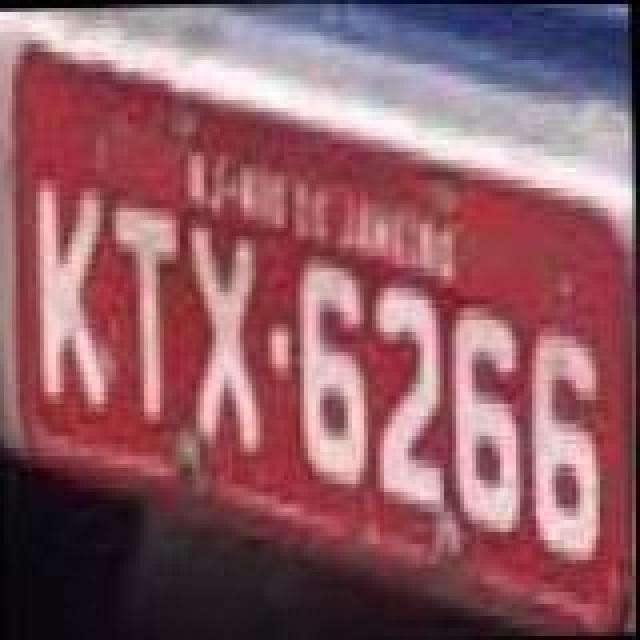2: (372, 278, 448, 510)
6: (526, 324, 606, 572), (448, 300, 524, 536), (296, 264, 372, 492)
K: (30, 176, 110, 416)
T: (112, 200, 188, 424)
X: (188, 224, 264, 460)
